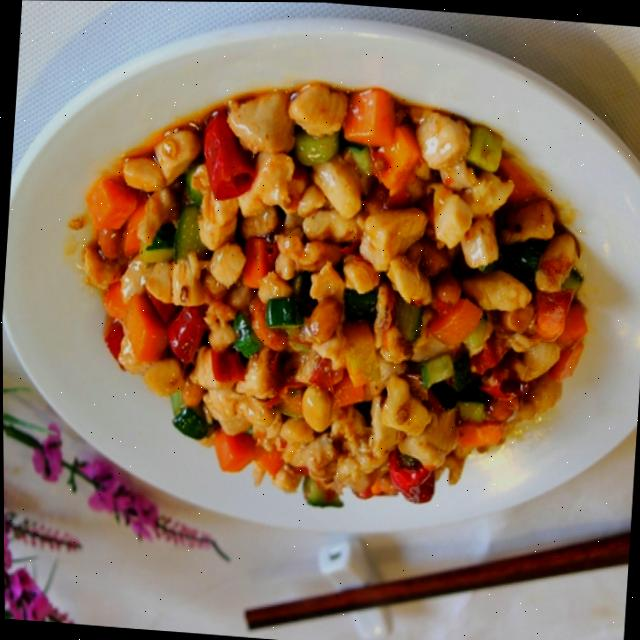鸡肉料理 含炸鸡: (41, 44, 638, 536)
